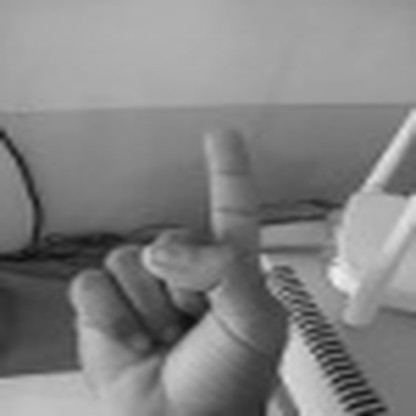d: (67, 112, 289, 416)
